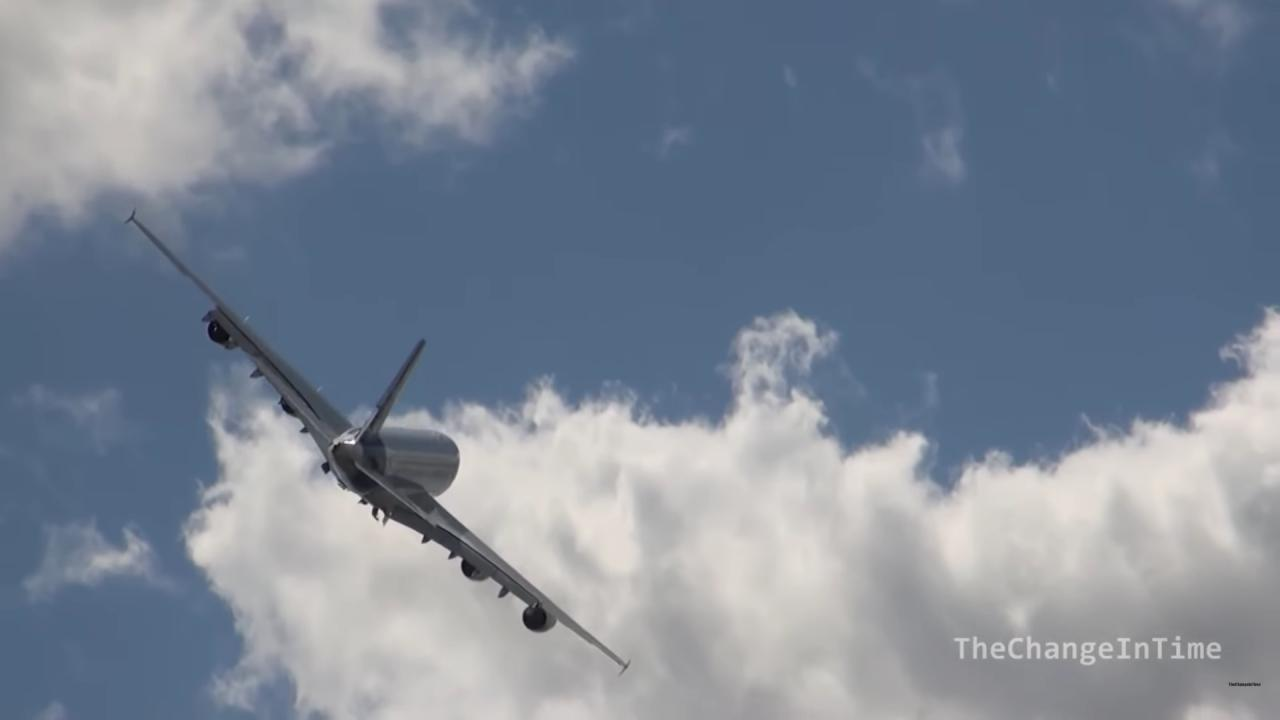Airplane: (112, 197, 640, 682)
